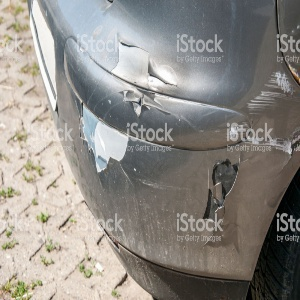bumper_scratch: (98, 53, 172, 125)
